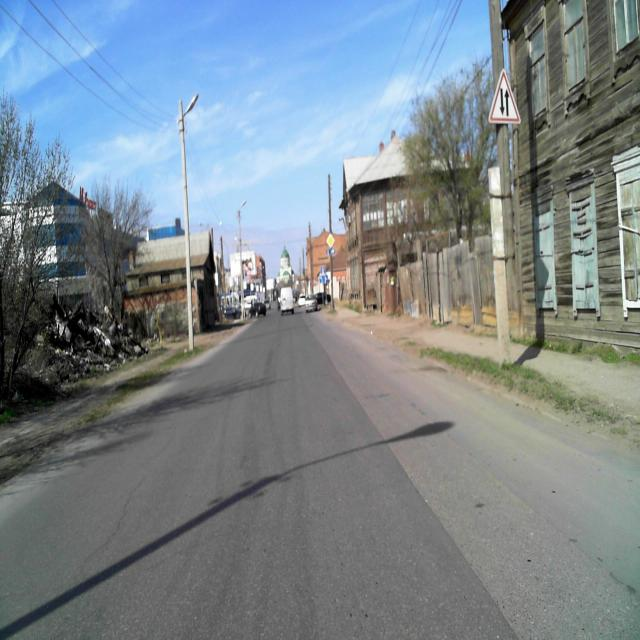road sign: (491, 66, 522, 121), (326, 232, 336, 249)
